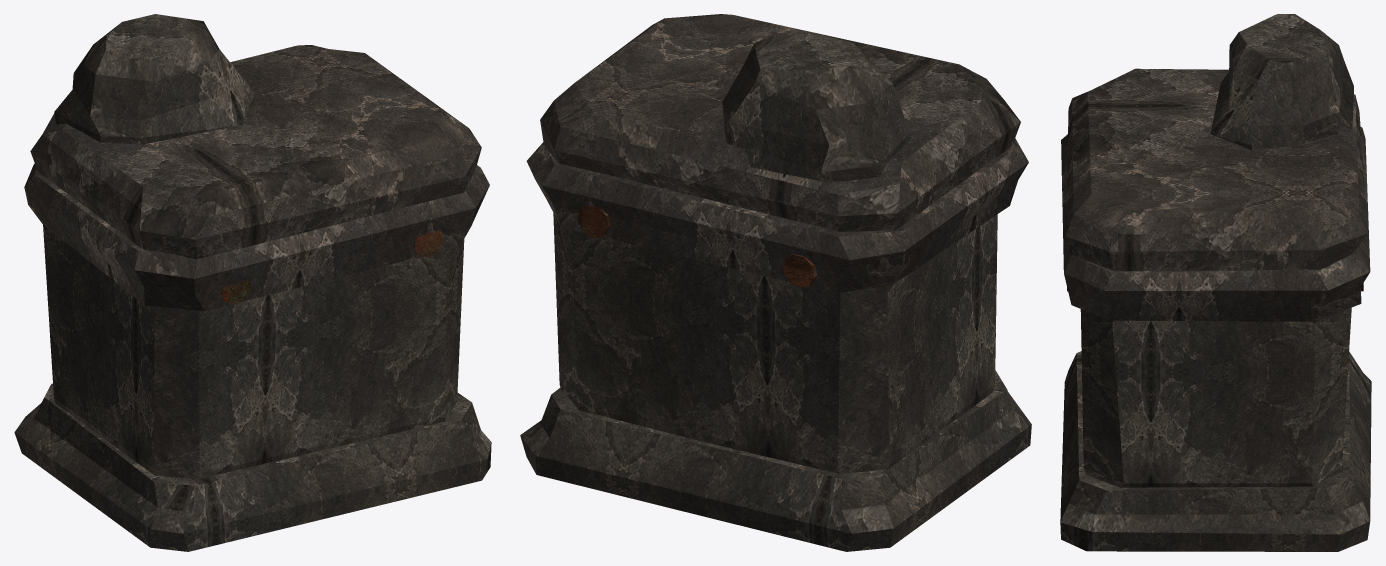
Rendered from crypt_cover_altar.glb.
3 renders of one model, left to right at view 1: azimuth 30°, elevation 25°; view 2: azimuth 150°, elevation 25°; view 3: azimuth 270°, elevation 25°, orthographic. The views are drawn at different scales.
Visible parts, largest first — view 1: Crypt Cover Altar Mesh; view 2: Crypt Cover Altar Mesh; view 3: Crypt Cover Altar Mesh.
Boxes of the visible parts, x1,y1,x2,y2 form: Crypt Cover Altar Mesh: (14,14,491,551); Crypt Cover Altar Mesh: (520,14,1031,551); Crypt Cover Altar Mesh: (1060,14,1371,551).
Bounding box in the file's own units: 1.27 × 1.44 × 0.9963.
Materials: 3 (3 with a texture image).
